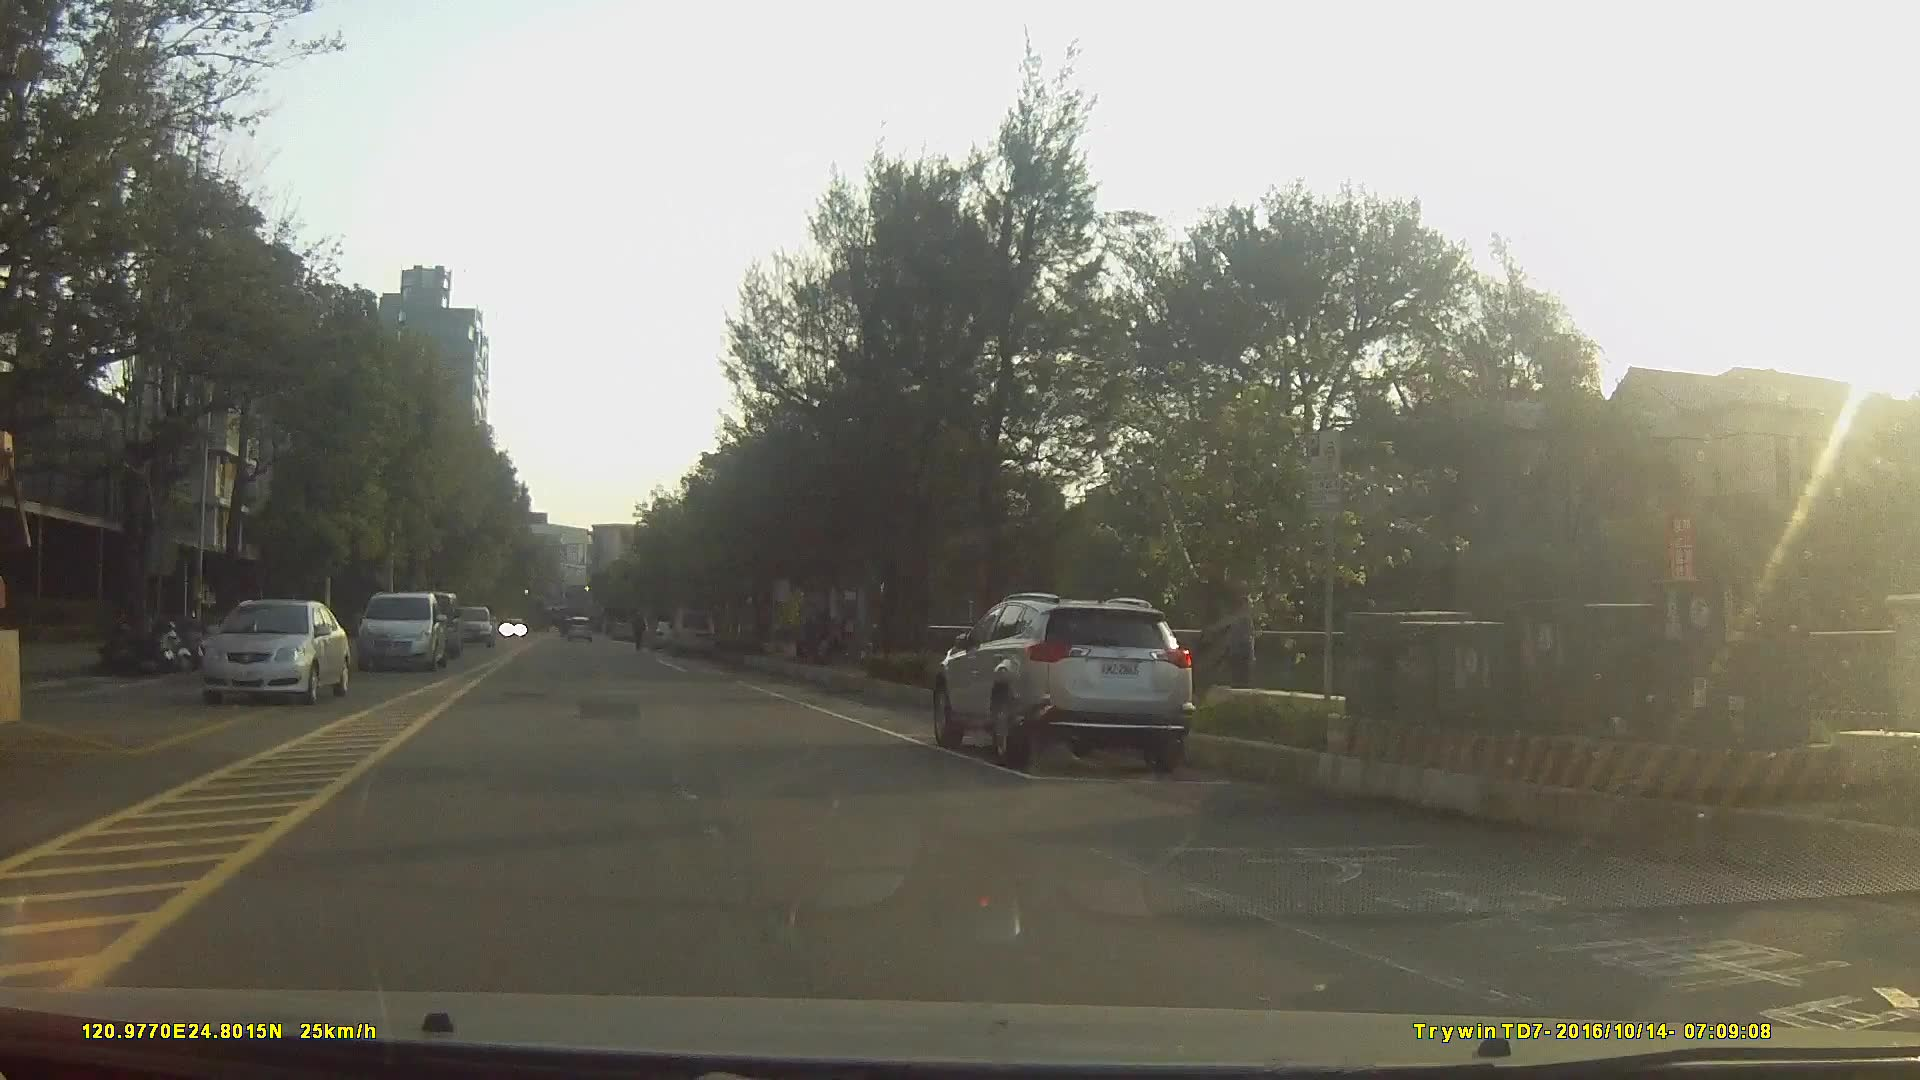vehicle: (936, 593, 1195, 781), (199, 599, 349, 704), (357, 589, 446, 670), (669, 608, 716, 657), (450, 607, 495, 644), (647, 618, 684, 651)
